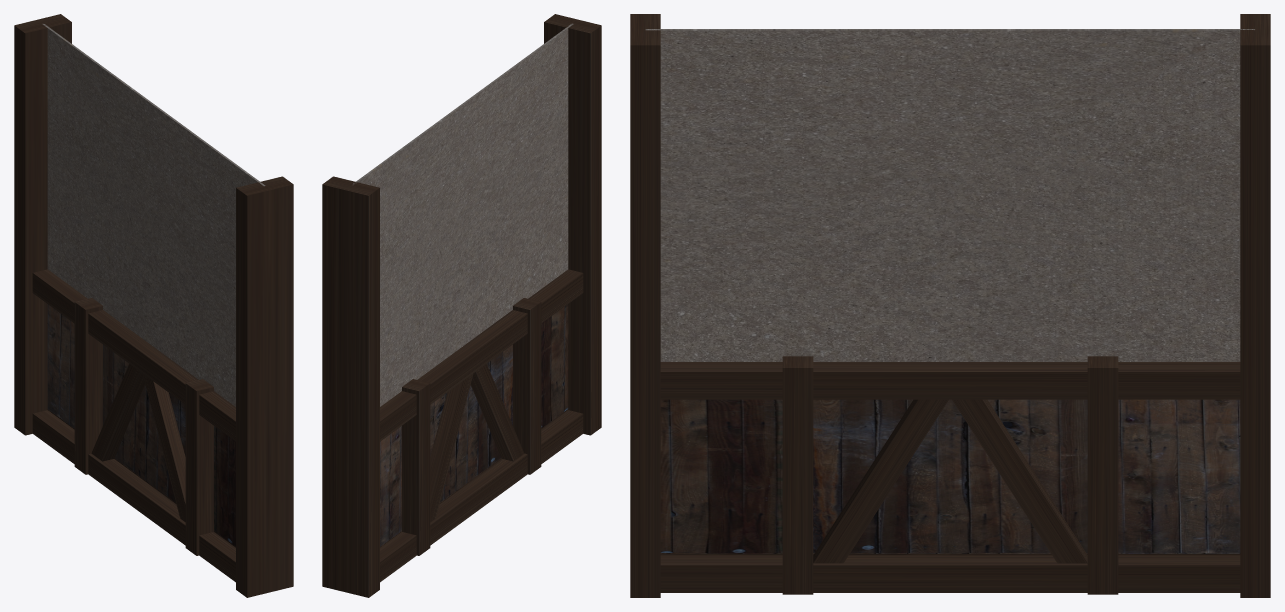
The model's file is OutdoorArchitecture_BasicWall03_BothEdges_BShortt.fbx.
The picture shows the model from 3 angles, left to right: view 1: azimuth 30°, elevation 25°; view 2: azimuth 150°, elevation 25°; view 3: azimuth 270°, elevation 25°; orthographic projection. The views are drawn at different scales.
Parts seen in each view (by area): view 1: OutdoorArchitecture_BasicWall03_BothEdges_BShortt; view 2: OutdoorArchitecture_BasicWall03_BothEdges_BShortt; view 3: OutdoorArchitecture_BasicWall03_BothEdges_BShortt.
Part boxes in pixels (x1,y1,x2,y2): OutdoorArchitecture_BasicWall03_BothEdges_BShortt: (14, 14, 293, 597); OutdoorArchitecture_BasicWall03_BothEdges_BShortt: (322, 14, 601, 597); OutdoorArchitecture_BasicWall03_BothEdges_BShortt: (630, 14, 1270, 597).
Bounding box in the file's own units: 36.37 × 300 × 315.
